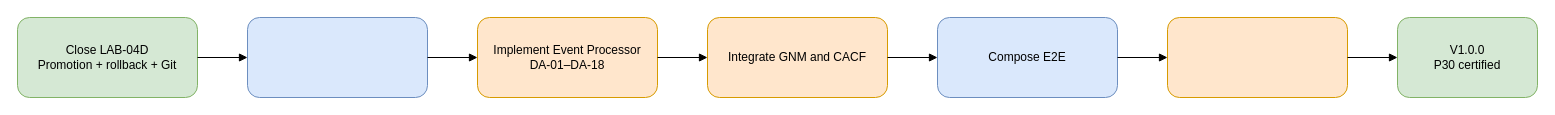
Image size: 1555x115. Some labels were removed from this diagram. Each missing label, with the box of its shape:
Kubernetes / GKE HA + DR: (1166, 16, 1348, 98)
Reconcile IDX-00 and PKC: (246, 16, 428, 98)
